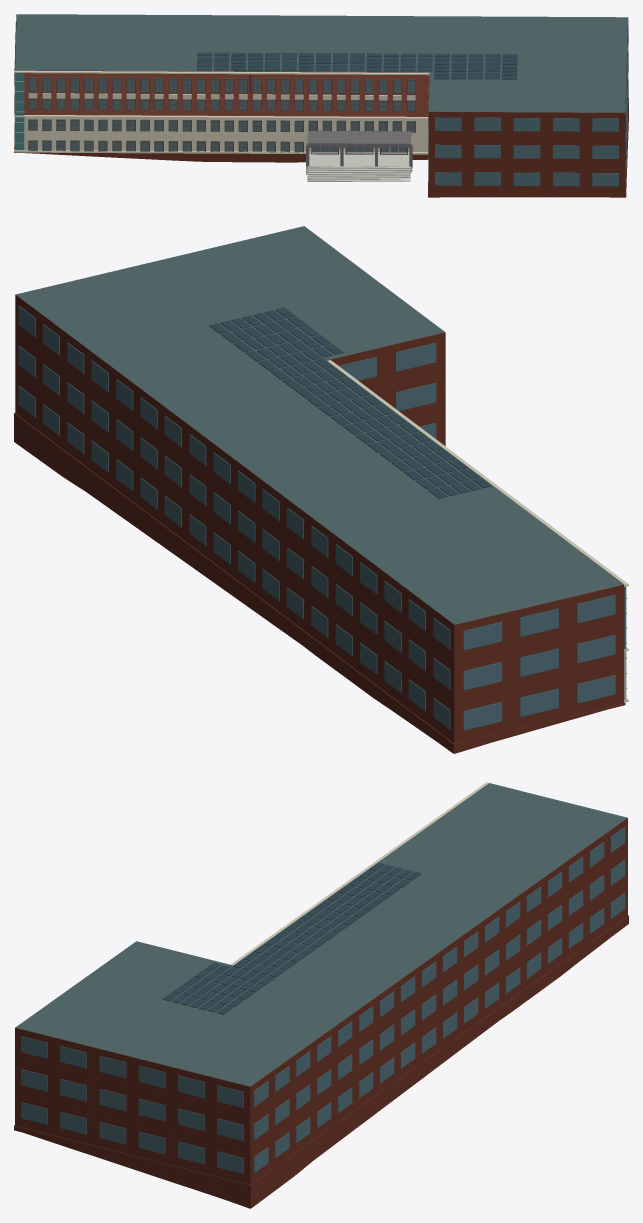
The model's file is intact.glb.
The picture shows the model from 3 angles, top to bottom: view 1: azimuth 30°, elevation 25°; view 2: azimuth 150°, elevation 25°; view 3: azimuth 270°, elevation 25°; orthographic projection. The views are drawn at different scales.
Visible parts, largest first — view 1: SM_468931909_Intact_00, SM_468931909_Intact_05, SM_468931909_Intact_03, SM_468931909_Intact_06, SM_468931909_Intact_01, SM_468931909_Intact_02, SM_468931909_Intact_04, SM_468931909_Intact_21, SM_468931909_Intact_18, SM_468931909_Intact_10, SM_468931909_Intact_08, SM_468931909_Intact_17 (+5 smaller); view 2: SM_468931909_Intact_00, SM_468931909_Intact_01, SM_468931909_Intact_02, SM_468931909_Intact_21, SM_468931909_Intact_04; view 3: SM_468931909_Intact_00, SM_468931909_Intact_01, SM_468931909_Intact_21, SM_468931909_Intact_02, SM_468931909_Intact_04.
Boxes of the visible parts, bbox=[...] form: SM_468931909_Intact_00: bbox=[14, 14, 628, 197]; SM_468931909_Intact_05: bbox=[29, 78, 415, 151]; SM_468931909_Intact_03: bbox=[14, 117, 428, 154]; SM_468931909_Intact_06: bbox=[28, 77, 415, 152]; SM_468931909_Intact_01: bbox=[14, 23, 628, 186]; SM_468931909_Intact_02: bbox=[197, 52, 517, 79]; SM_468931909_Intact_04: bbox=[14, 70, 429, 153]; SM_468931909_Intact_21: bbox=[14, 98, 628, 197]; SM_468931909_Intact_18: bbox=[307, 166, 410, 181]; SM_468931909_Intact_10: bbox=[307, 130, 411, 145]; SM_468931909_Intact_08: bbox=[28, 93, 415, 100]; SM_468931909_Intact_17: bbox=[306, 153, 412, 174]; SM_468931909_Intact_00: bbox=[15, 226, 624, 743]; SM_468931909_Intact_01: bbox=[18, 305, 615, 730]; SM_468931909_Intact_02: bbox=[209, 307, 491, 498]; SM_468931909_Intact_21: bbox=[14, 413, 625, 753]; SM_468931909_Intact_04: bbox=[327, 360, 628, 702]; SM_468931909_Intact_00: bbox=[15, 783, 627, 1193]; SM_468931909_Intact_01: bbox=[21, 827, 625, 1174]; SM_468931909_Intact_21: bbox=[14, 915, 628, 1208]; SM_468931909_Intact_02: bbox=[162, 862, 421, 1014]; SM_468931909_Intact_04: bbox=[231, 782, 488, 965].
Bounding box in the file's own units: 2.2 × 0.4112 × 1.87.
Materials: 14 (2 with a texture image).
